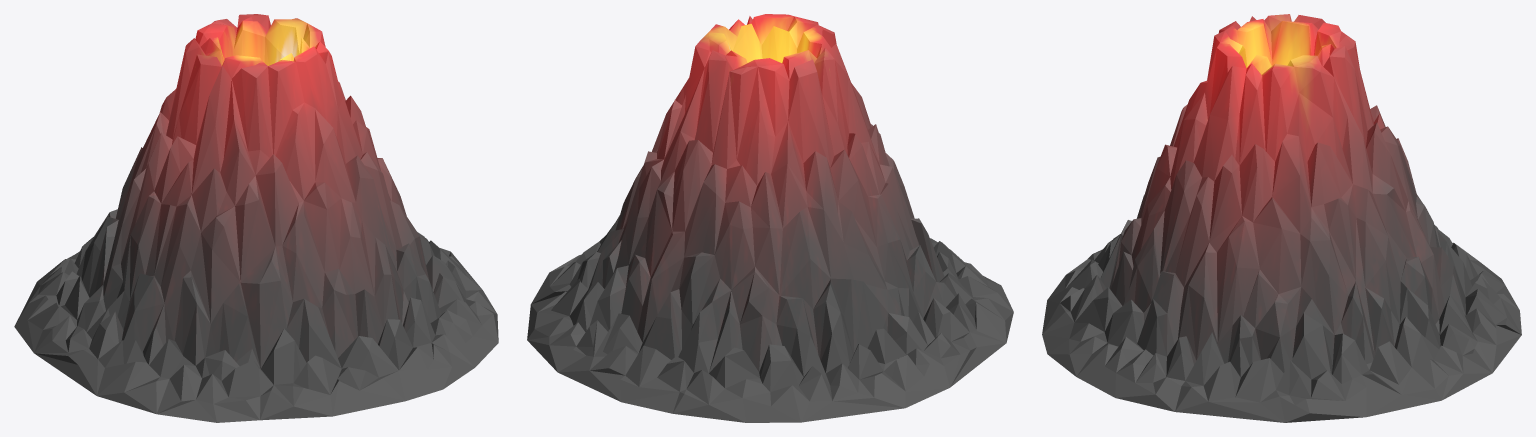
Rendered from Volcano(2).glb.
3 renders of one model, left to right at view 1: azimuth 30°, elevation 25°; view 2: azimuth 150°, elevation 25°; view 3: azimuth 270°, elevation 25°, orthographic.
Parts seen in each view (by area): view 1: Plane; view 2: Plane; view 3: Plane.
Part boxes in pixels (left/top/right/bottom): Plane: left=14, top=14, right=498, bottom=422; Plane: left=527, top=14, right=1013, bottom=422; Plane: left=1042, top=14, right=1521, bottom=422.
Size of the model in its own units: 9.44 by 6.16 by 9.52.
